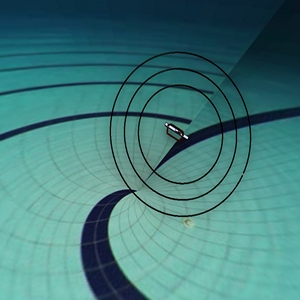circle: (94, 44, 258, 222)
submarine: (155, 112, 194, 150)
